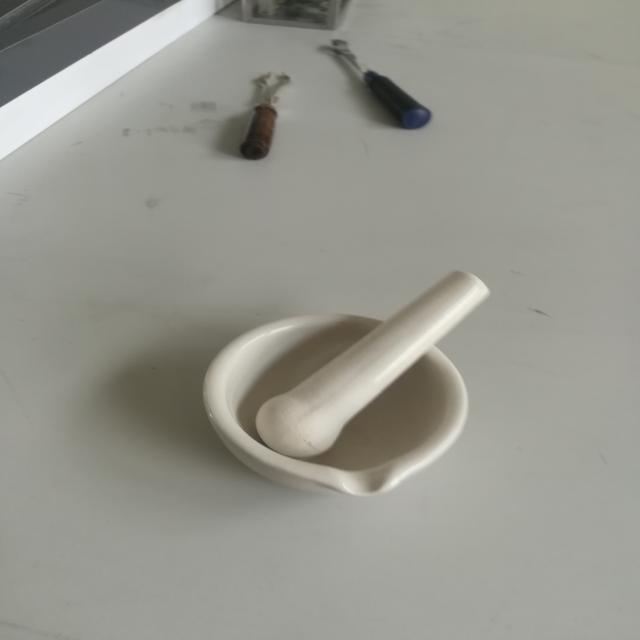Porcelain_Mortar Pestle: (166, 257, 554, 532)
